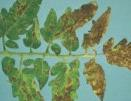Tomato Septoria leaf spot: (1, 0, 47, 47), (2, 58, 52, 101), (48, 59, 80, 101), (42, 8, 60, 52), (34, 57, 50, 92)
